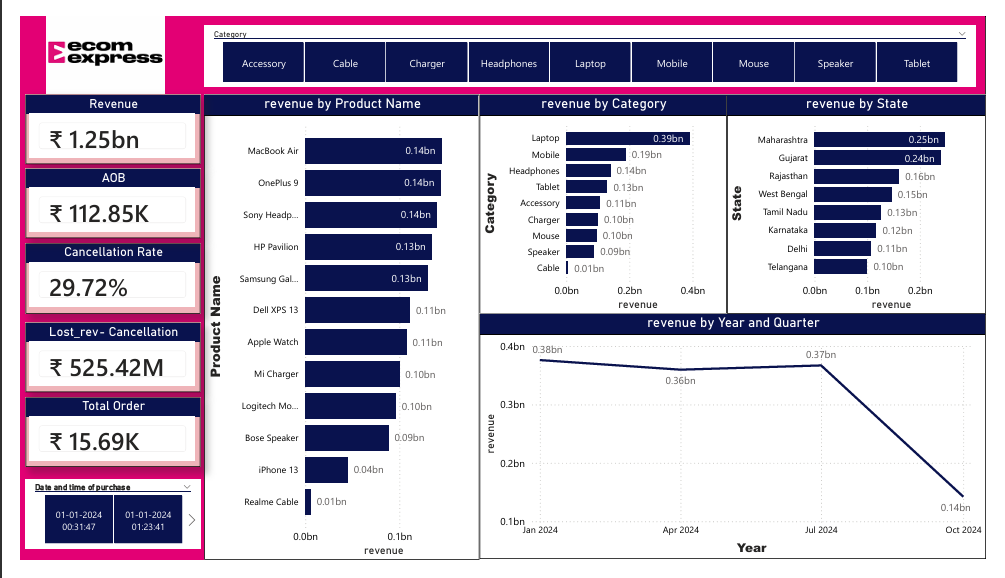

What the dashboard file says about the page in this screenshot:
{"tool":"powerbi","page":{"name":"Page 1","canvas":[1280,720],"ordinal":0},"visuals":[{"type":"shape","box":[0,0,1280,104.2],"z":0},{"type":"shape","box":[0,103.9,244.4,616.1],"z":1000},{"type":"barChart","fields":{"Y":["table.revenue"],"Category":["Products.Product Name"]},"box":[244.4,103.9,364.4,616.1],"z":2000},{"type":"barChart","fields":{"Y":["table.revenue"],"Category":["Products.Category"]},"box":[608.8,103.9,327.8,289.8],"z":3000},{"type":"lineChart","fields":{"Category":["Order.Date and time of purchase.Variation.Date Hierarchy.Year","Order.Date and time of purchase.Variation.Date Hierarchy.Quarter","Order.Date and time of purchase.Variation.Date Hierarchy.Month","Order.Date and time of purchase.Variation.Date Hierarchy.Day"],"Y":["table.revenue"]},"box":[608.8,393.7,671.7,324.9],"z":4000},{"type":"barChart","fields":{"Category":["Customers.State"],"Y":["table.revenue"]},"box":[936.6,103.9,343.9,289.8],"z":5000},{"type":"image","box":[0,0,225.6,104.2],"z":6000},{"type":"slicer","fields":{"Values":["Products.Category"]},"box":[244.4,13.2,1021.5,80.5],"z":7000},{"type":"cardVisual","title":"Revenue","fields":{"Data":["table.revenue"]},"box":[7.3,103.9,231.2,92.2],"z":8000},{"type":"cardVisual","title":"Cancellation Rate","fields":{"Data":["table.cancellation rate"]},"box":[7.3,301.5,231.2,92.2],"z":9000},{"type":"cardVisual","title":"AOB","fields":{"Data":["table.AOB"]},"box":[7.3,202,231.2,92.2],"z":10000},{"type":"cardVisual","title":"Lost_rev- Cancellation","fields":{"Data":["table.lost_rev_cancellation"]},"box":[7.3,406,231.2,92.2],"z":11000},{"type":"cardVisual","title":"Total Order","fields":{"Data":["CountNonNull(Order.OrderID)"]},"box":[7.3,504.9,231.2,92],"z":12000},{"type":"slicer","fields":{"Values":["Order.Date and time of purchase"]},"box":[7.3,613.2,231.2,92.2],"z":13000}]}

Visuals, with their boxes in screenshot pixels (x1, y1, x2, y2), scaled from the page's 1280x720 canvas onto the 1005x578 screenshot:
shape: <region>0, 0, 1004, 84</region>
shape: <region>0, 83, 192, 577</region>
barChart - table.revenue x Products.Product Name: <region>192, 83, 478, 577</region>
barChart - table.revenue x Products.Category: <region>478, 83, 735, 316</region>
lineChart - Order.Date and time of purchase.Variation.Date Hierarchy.Year x Order.Date and time of purchase.Variation.Date Hierarchy.Quarter: <region>478, 316, 1004, 577</region>
barChart - Customers.State x table.revenue: <region>735, 83, 1004, 316</region>
image: <region>0, 0, 177, 84</region>
slicer - Products.Category: <region>192, 11, 994, 75</region>
"Revenue" cardVisual: <region>6, 83, 187, 157</region>
"Cancellation Rate" cardVisual: <region>6, 242, 187, 316</region>
"AOB" cardVisual: <region>6, 162, 187, 236</region>
"Lost_rev- Cancellation" cardVisual: <region>6, 326, 187, 400</region>
"Total Order" cardVisual: <region>6, 405, 187, 479</region>
slicer - Order.Date and time of purchase: <region>6, 492, 187, 566</region>
